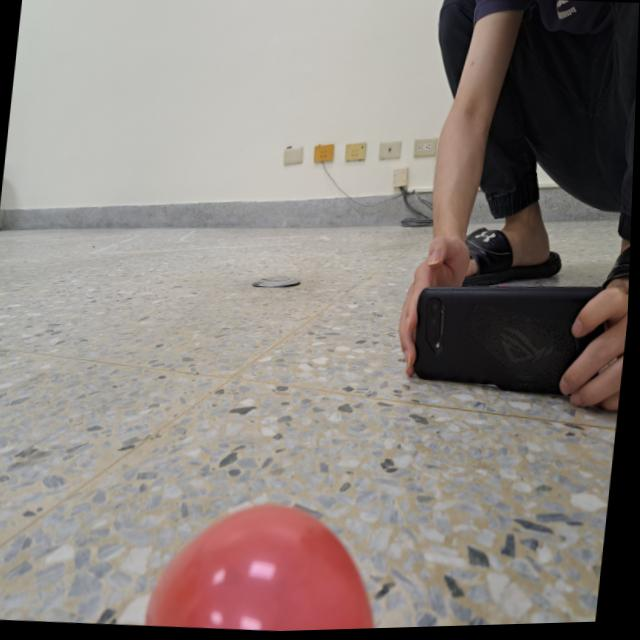red: (151, 493, 395, 636)
